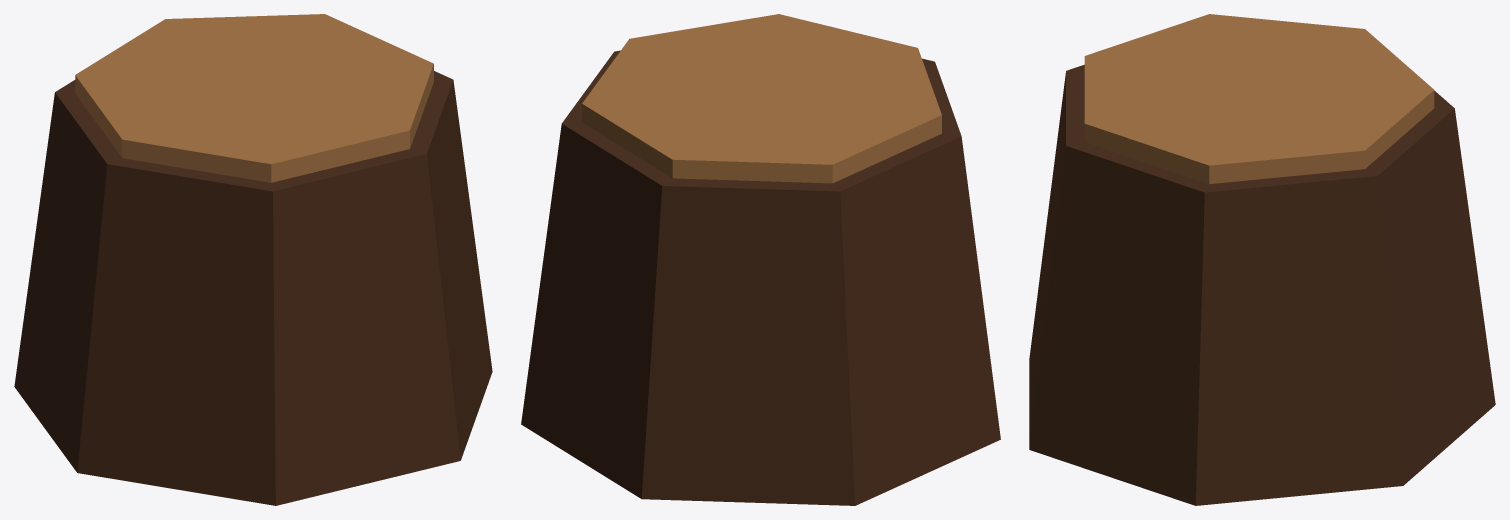
File: stump.glb
3 renders of one model, left to right at view 1: azimuth 30°, elevation 25°; view 2: azimuth 150°, elevation 25°; view 3: azimuth 270°, elevation 25°, orthographic.
Visible parts, largest first — view 1: stump_body, stump_top; view 2: stump_body, stump_top; view 3: stump_body, stump_top.
Boxes of the visible parts, x1,y1,x2,y2 form: stump_body: (14,71,492,505); stump_top: (75,14,433,182); stump_body: (521,50,1000,505); stump_top: (582,14,941,183); stump_body: (1029,64,1495,505); stump_top: (1084,14,1434,183).
Size of the model in its own units: 0.351 by 0.255 by 0.3422.
